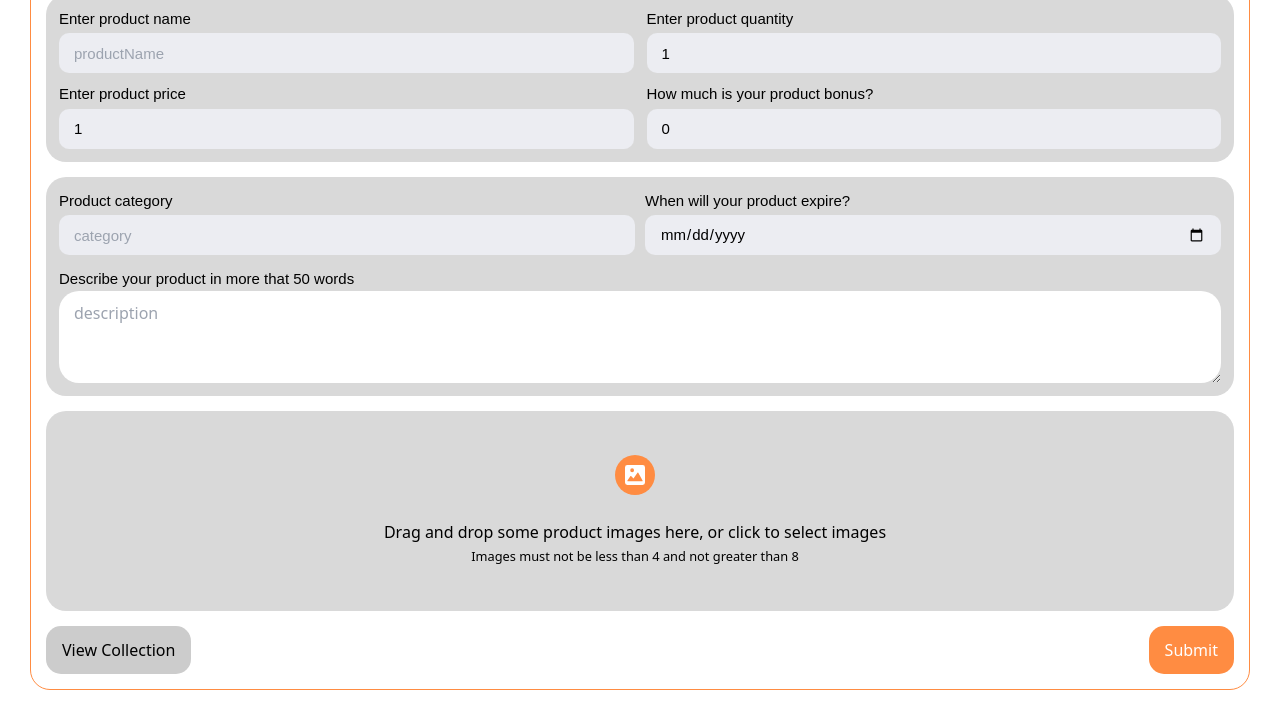
Scenario: AddProductToCollection › renders the AddProductToCollection Component and pops up validation schema
The image size is (1280, 705).
(page scrolled)
Expected: the text "When will your product expire?" is shown, [645,192,850,208]
Expected: the text "Describe your product in more that 50 words" is shown, [59,270,354,287]
Click the button "Submit".
click(1191, 650)  # box [1149,626,1234,674]
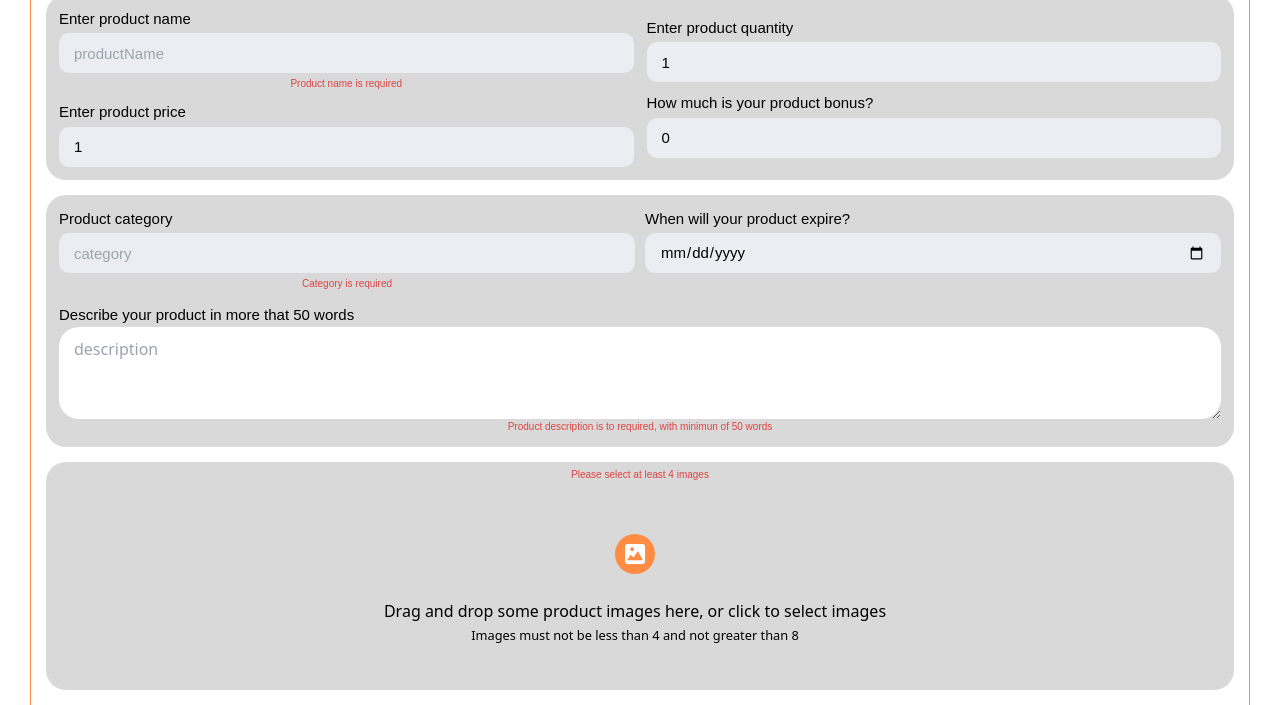
Now the text "Product name is required" is shown, box [290,78,402,89]
Now the text "Category is required" is shown, box [302,278,392,289]
Now the text "Product description is to required, with minimun of 50 words" is shown, box [508,420,772,432]
